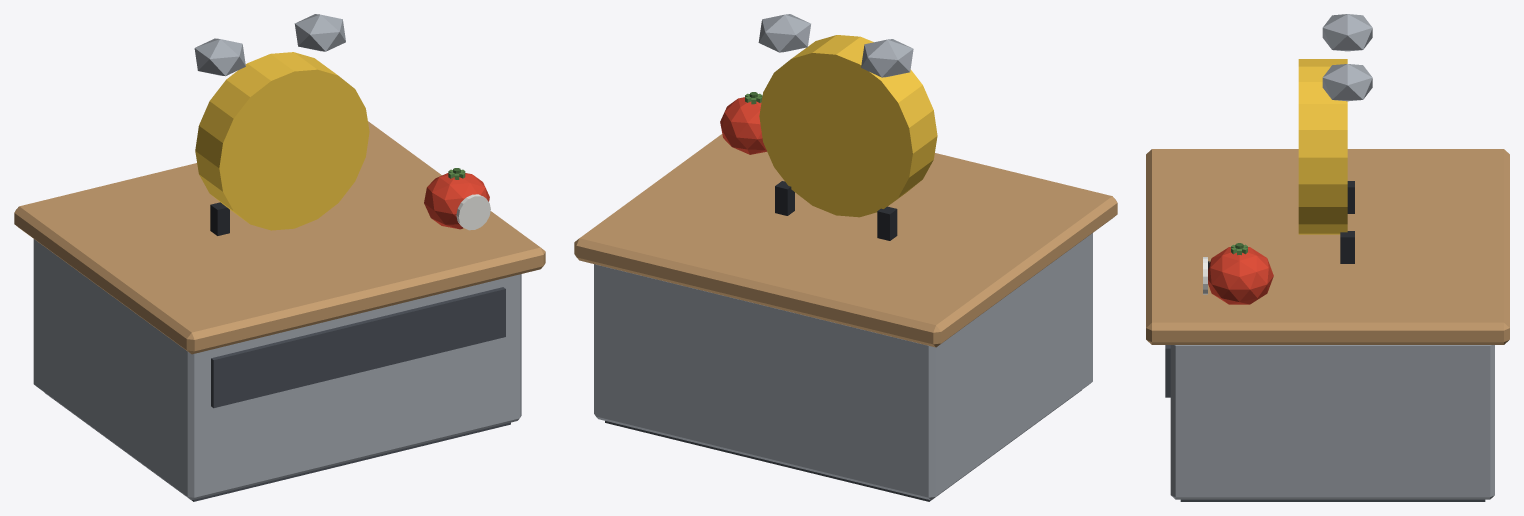
Rendered from pomodoro_p2_4.glb.
3 renders of one model, left to right at view 1: azimuth 30°, elevation 25°; view 2: azimuth 150°, elevation 25°; view 3: azimuth 270°, elevation 25°, orthographic. The views are drawn at different scales.
Parts seen in each view (by area): view 1: pomodoro_p2_4_mesh_Desk, pomodoro_p2_4_mesh; view 2: pomodoro_p2_4_mesh_Desk, pomodoro_p2_4_mesh; view 3: pomodoro_p2_4_mesh_Desk, pomodoro_p2_4_mesh.
Boxes of the visible parts, x1,y1,x2,y2 form: pomodoro_p2_4_mesh_Desk: (14, 121, 545, 501); pomodoro_p2_4_mesh: (194, 14, 490, 235); pomodoro_p2_4_mesh_Desk: (574, 134, 1117, 501); pomodoro_p2_4_mesh: (720, 14, 937, 240); pomodoro_p2_4_mesh_Desk: (1146, 149, 1509, 501); pomodoro_p2_4_mesh: (1203, 14, 1372, 304).
Bounding box in the file's own units: 0.86 × 0.862 × 0.74.
